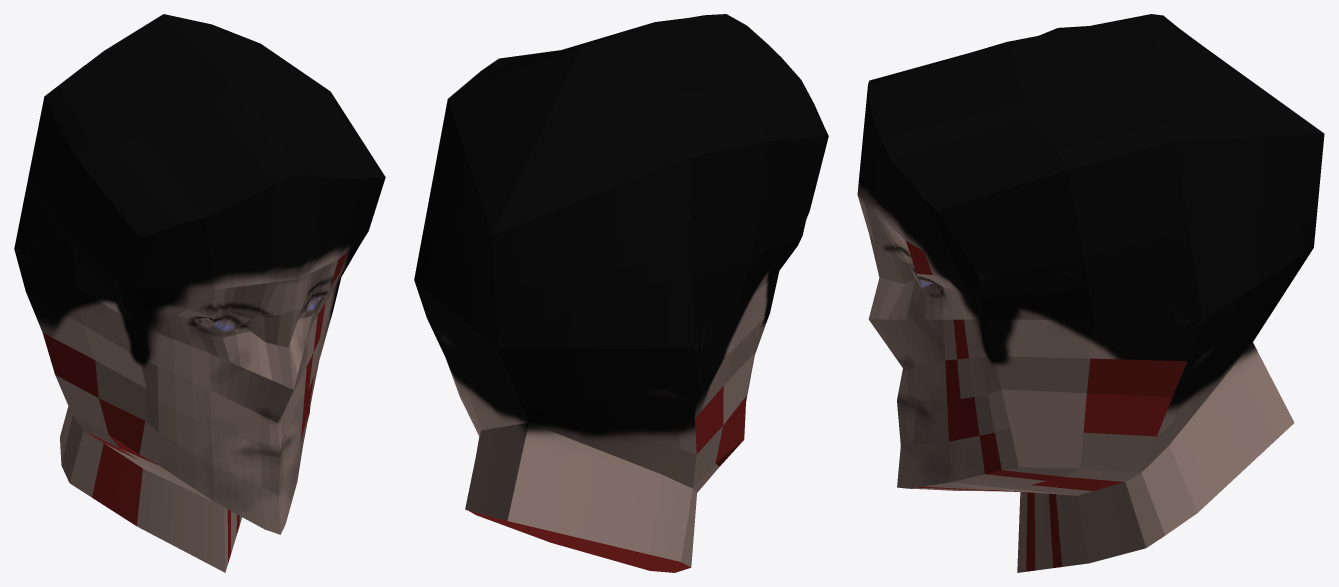
The model's file is NPC head .fbx.
3 renders of one model, left to right at view 1: azimuth 30°, elevation 25°; view 2: azimuth 150°, elevation 25°; view 3: azimuth 270°, elevation 25°, orthographic. The views are drawn at different scales.
Parts seen in each view (by area): view 1: Cube.001; view 2: Cube.001; view 3: Cube.001.
Boxes of the visible parts, x1=… form: Cube.001: x1=14, y1=14, x2=385, y2=572; Cube.001: x1=414, y1=14, x2=828, y2=572; Cube.001: x1=857, y1=14, x2=1324, y2=572.
Bounding box in the file's own units: 17.64 × 33.73 × 25.54.
Materials: 2 (1 with a texture image).
